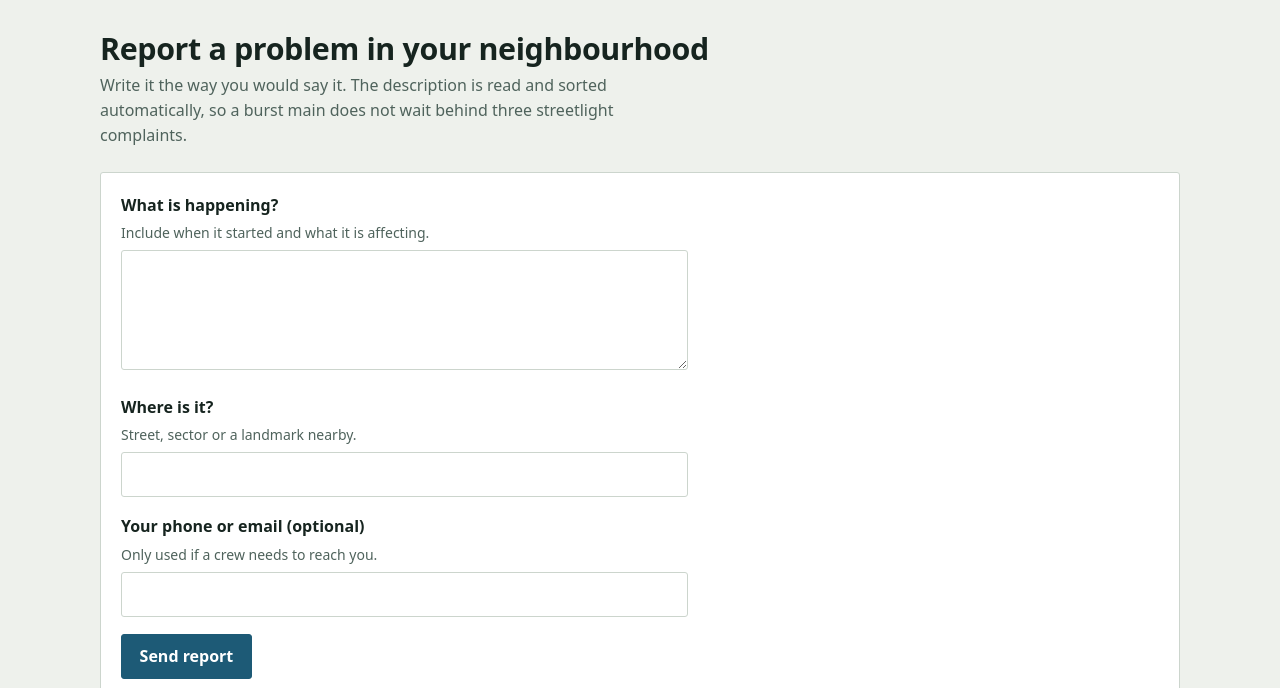
Test case: Report a problem › blocks a submission that the server would reject anyway
Type "flood" into the text box labelled "What is happening" at (405, 310), box x1=121 y1=250 x2=688 y2=370
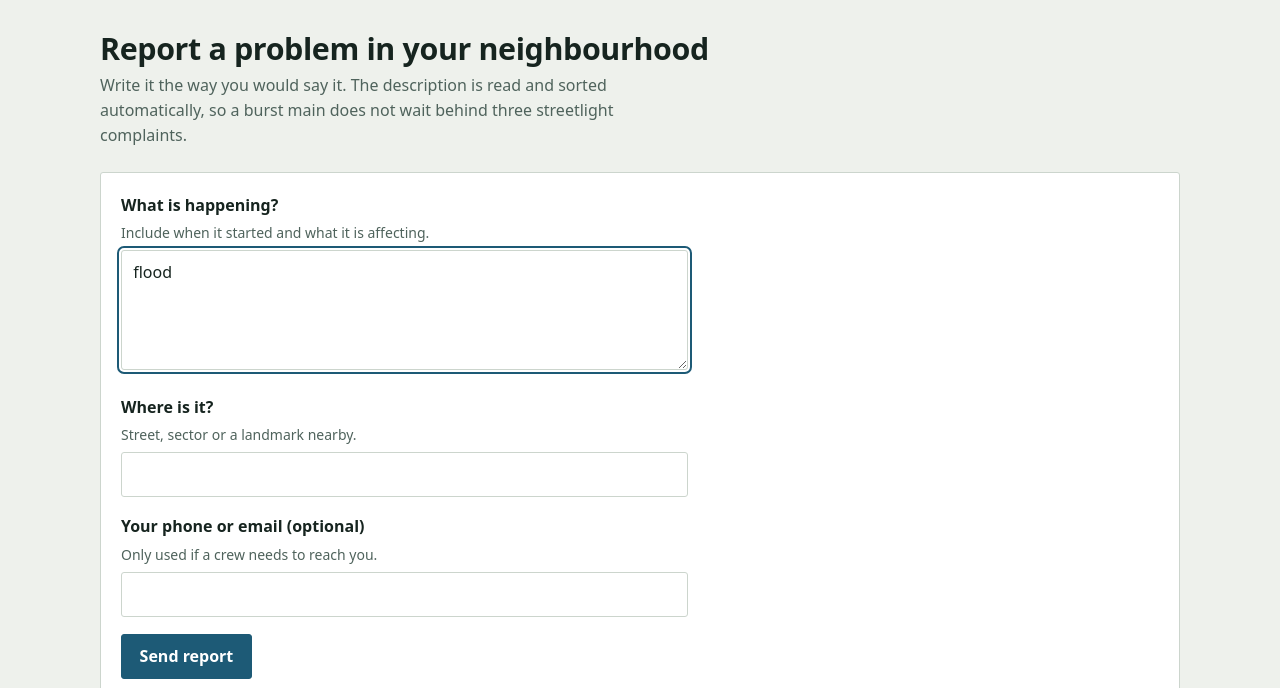
Click the button "Send report" at (186, 656), box x1=121 y1=634 x2=252 y2=678
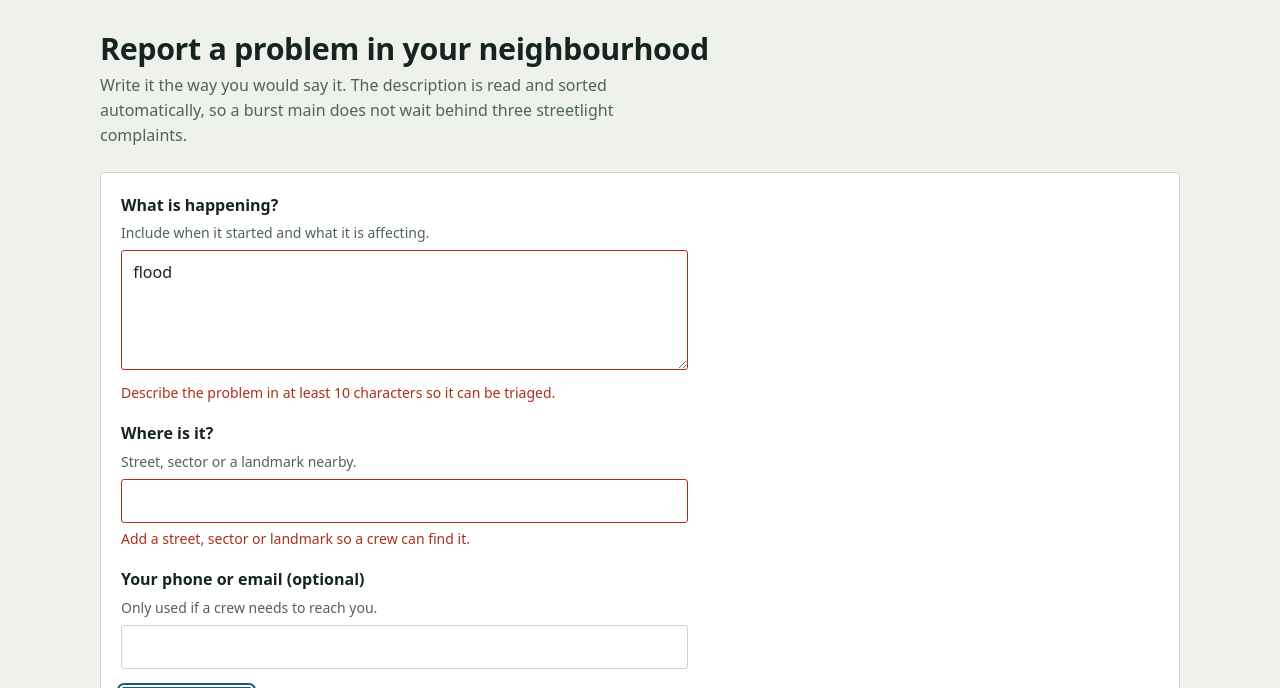
expect the text "at least 10 characters" is shown: met, box x1=121 y1=383 x2=555 y2=402
